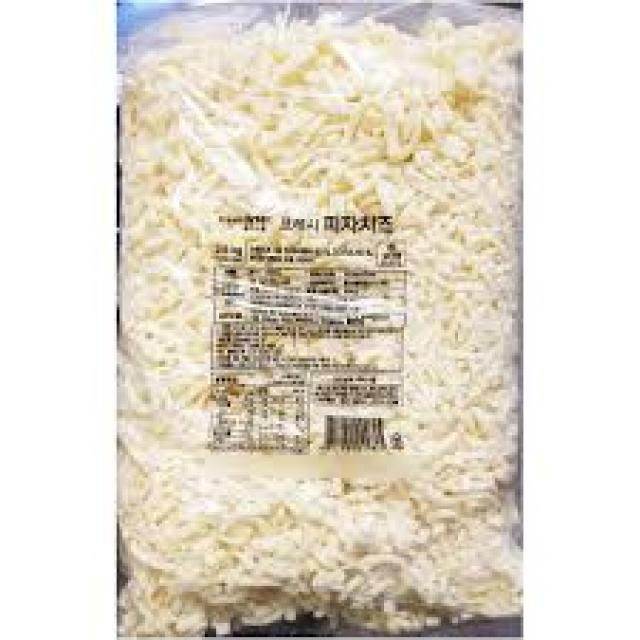Cheese: (129, 29, 507, 600)
